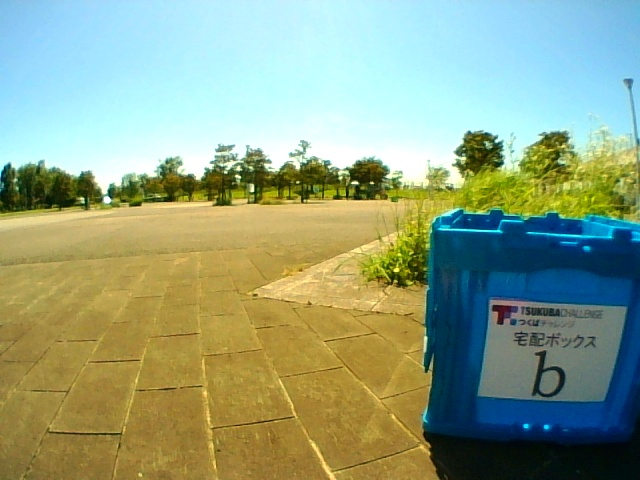blue_box: (443, 216, 634, 435)
tag_b: (492, 305, 606, 400)
